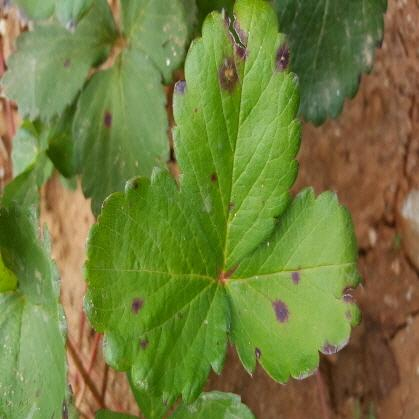Leaf Spot: (80, 164, 230, 409), (170, 0, 303, 275), (222, 185, 366, 384), (0, 198, 78, 418), (72, 48, 169, 218), (0, 20, 93, 121)
